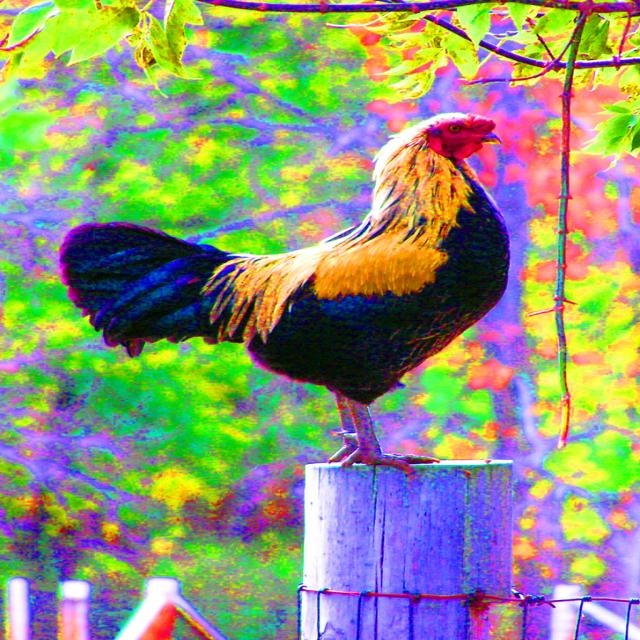Chicken: (91, 90, 517, 512)
